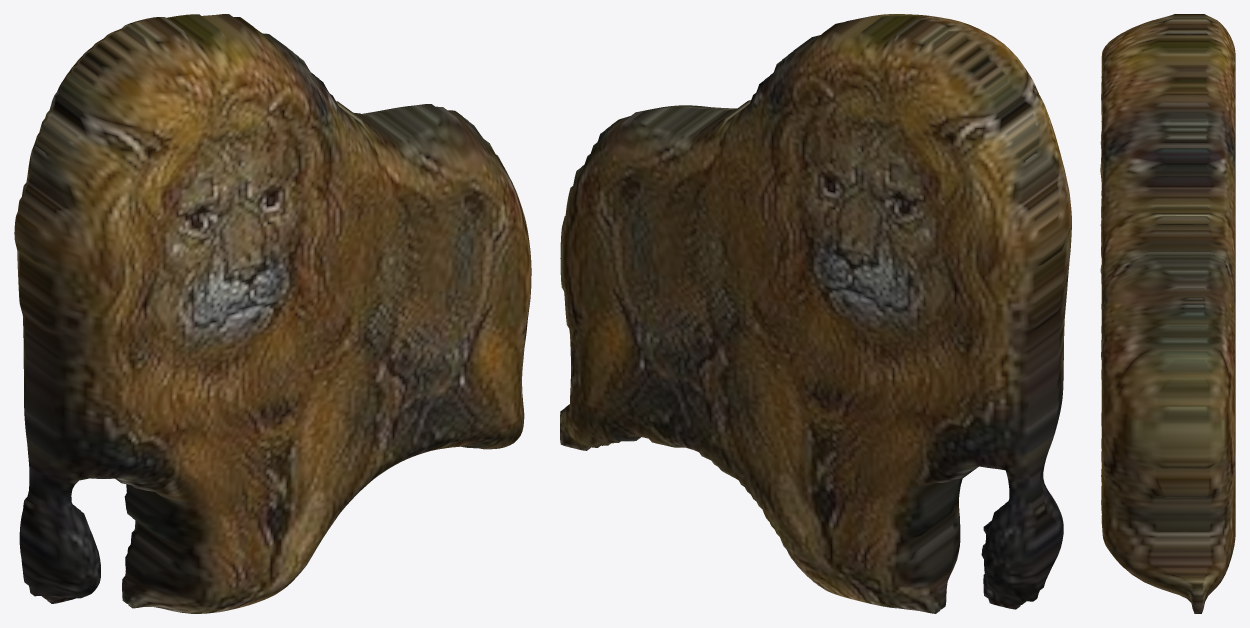
Rendered from eden-lion.glb.
3 views of the same model, side by side, from view 1: azimuth 30°, elevation 25°; view 2: azimuth 150°, elevation 25°; view 3: azimuth 270°, elevation 25° (orthographic). The views are drawn at different scales.
Visible parts, largest first — view 1: eden-lion; view 2: eden-lion; view 3: eden-lion.
Boxes of the visible parts, x1=… form: eden-lion: x1=14, y1=14, x2=531, y2=613; eden-lion: x1=560, y1=14, x2=1071, y2=613; eden-lion: x1=1100, y1=14, x2=1235, y2=613.
Size of the model in its own units: 1.21 by 1.37 by 0.3317.
1 material, 1 textured.
